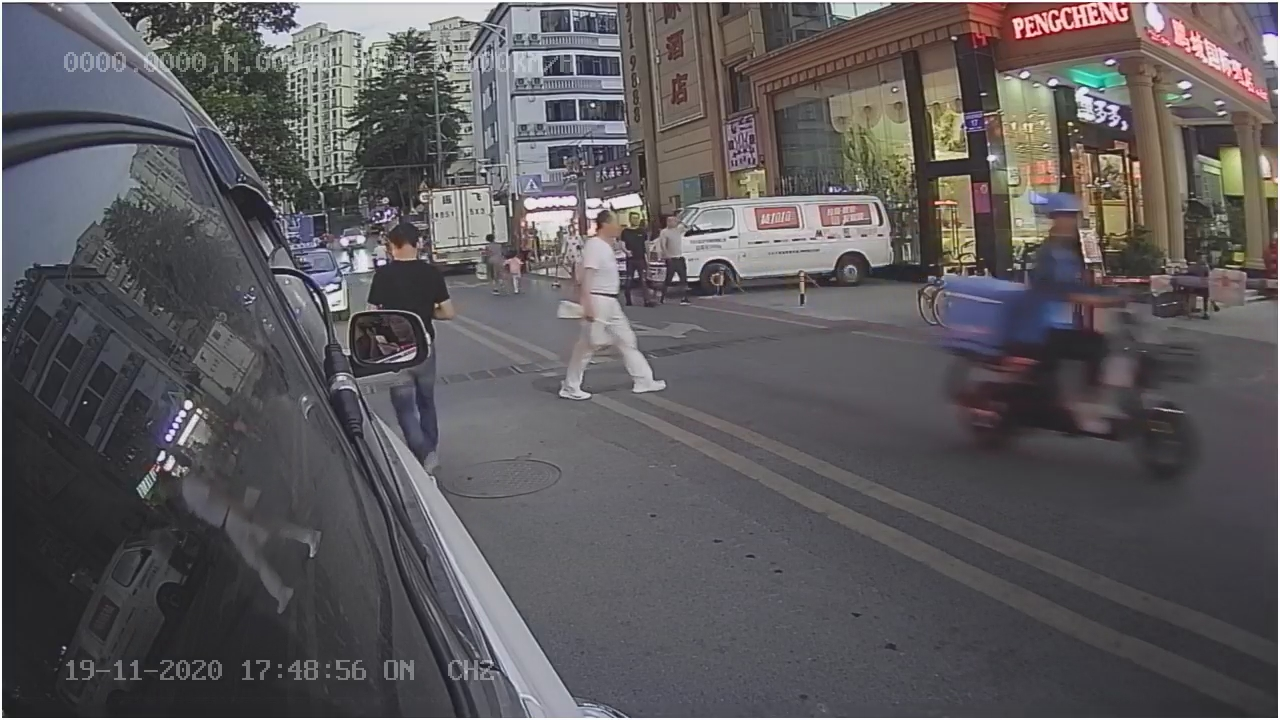person: (561, 213, 668, 416)
